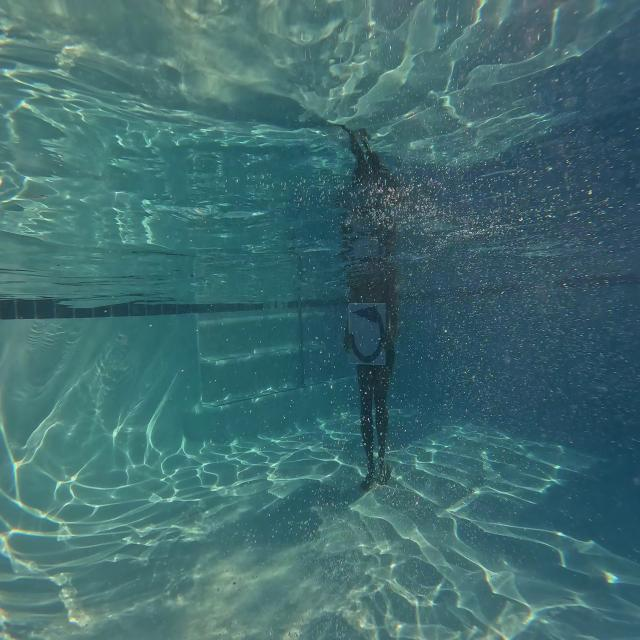blue_side: (348, 302, 387, 368)
